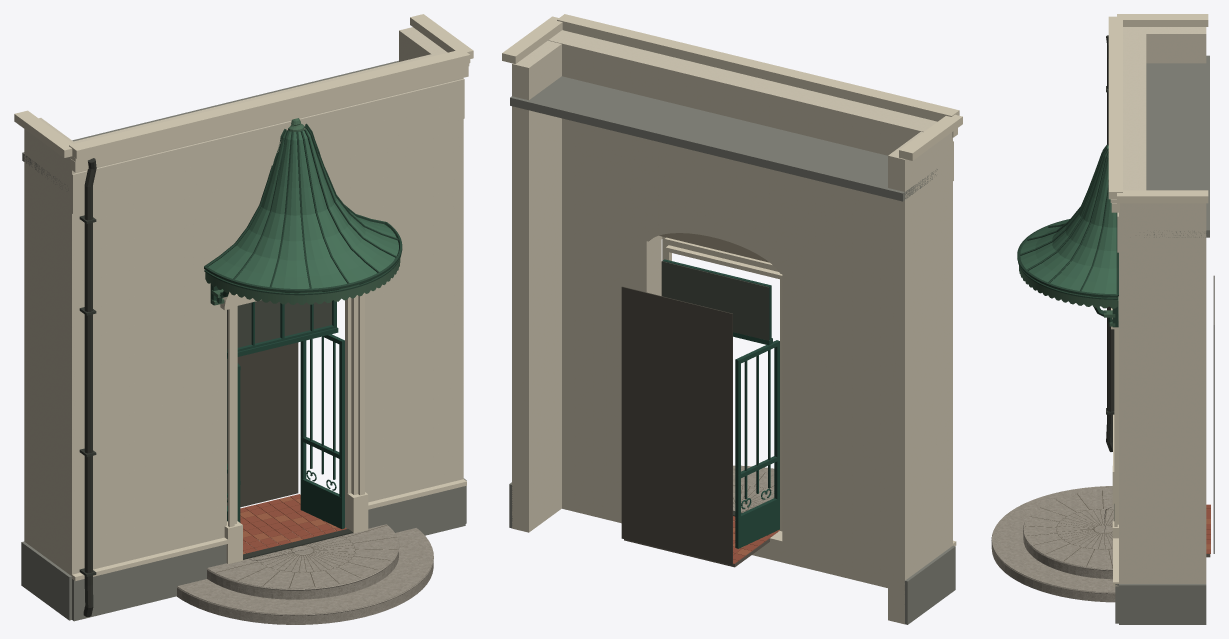
File: xuhui-jianguo-602-west-canopy-lod.glb
3 views of the same model, side by side, from view 1: azimuth 30°, elevation 25°; view 2: azimuth 150°, elevation 25°; view 3: azimuth 270°, elevation 25° (orthographic). The views are drawn at different scales.
Parts seen in each view (by area): view 1: 建国西路602号花园住宅西门与攒尖雨厦; view 2: 建国西路602号花园住宅西门与攒尖雨厦; view 3: 建国西路602号花园住宅西门与攒尖雨厦.
Boxes of the visible parts, x1,y1,x2,y2 form: 建国西路602号花园住宅西门与攒尖雨厦: [14, 14, 473, 624]; 建国西路602号花园住宅西门与攒尖雨厦: [502, 14, 962, 624]; 建国西路602号花园住宅西门与攒尖雨厦: [991, 14, 1214, 624].
Bounding box in the file's own units: 5.33 × 5.9 × 2.75.
19 materials, 2 textured.
